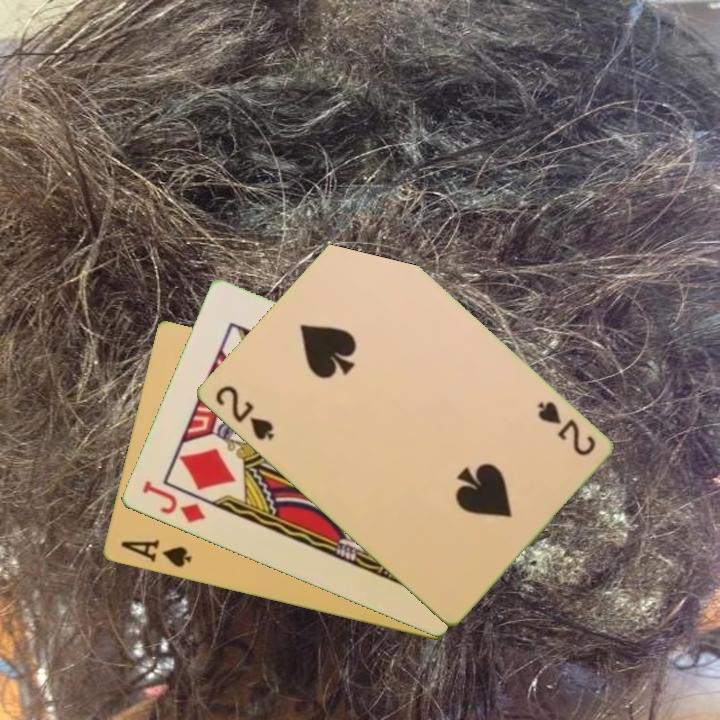2s: (211, 382, 277, 444), (533, 397, 598, 459)
As: (116, 536, 194, 571)
Jd: (137, 477, 208, 527)
